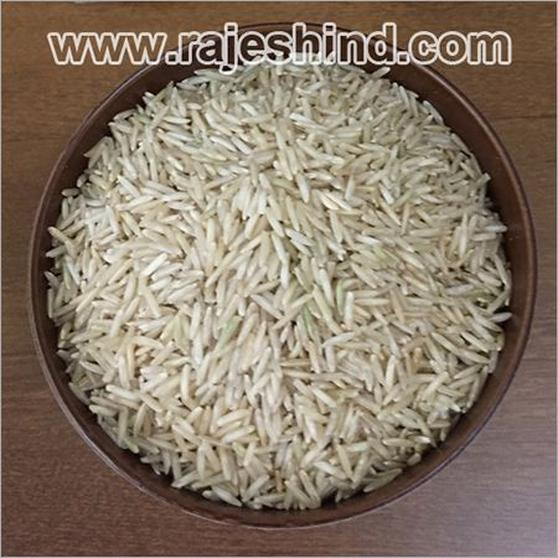rice: (51, 90, 529, 490)
